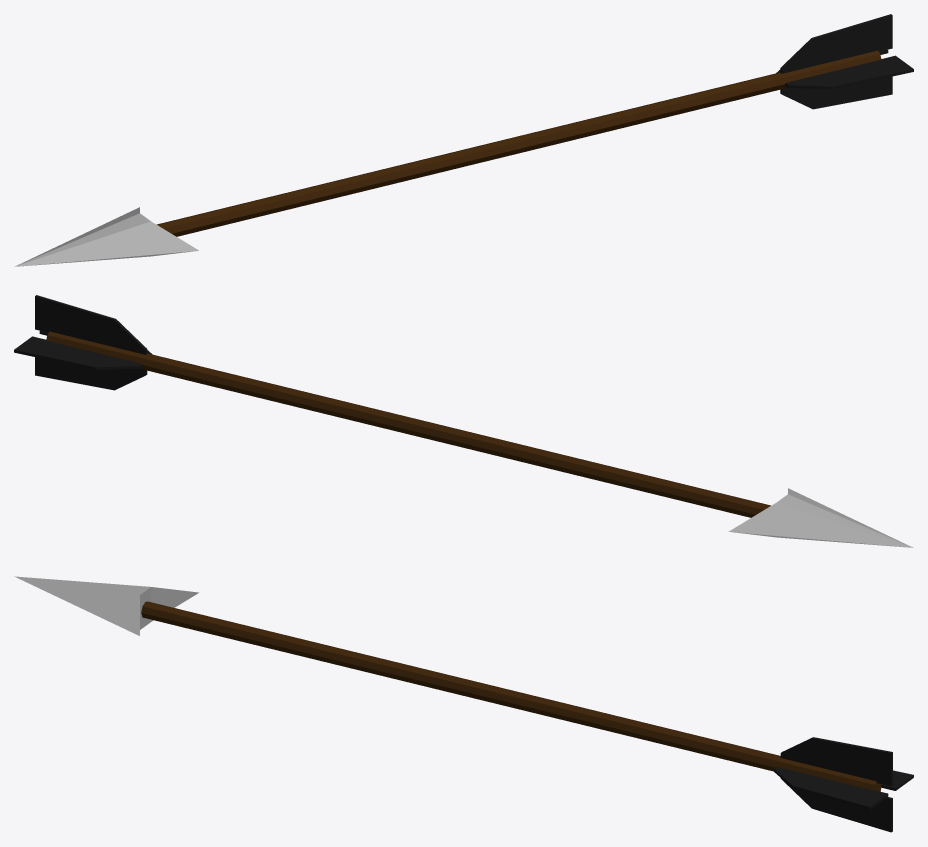
Rendered from iron_arrow.fbx.
The picture shows the model from 3 angles, top to bottom: view 1: azimuth 30°, elevation 25°; view 2: azimuth 150°, elevation 25°; view 3: azimuth 330°, elevation 25°; orthographic projection.
Parts seen in each view (by area): view 1: Iron_Arrow; view 2: Iron_Arrow; view 3: Iron_Arrow.
Part boxes in pixels (<box>): Iron_Arrow: <box>14,14,913,266</box>; Iron_Arrow: <box>14,295,913,547</box>; Iron_Arrow: <box>14,576,913,832</box>.
Bounding box in the file's own units: 0.8586 × 0.0742 × 0.1011.
